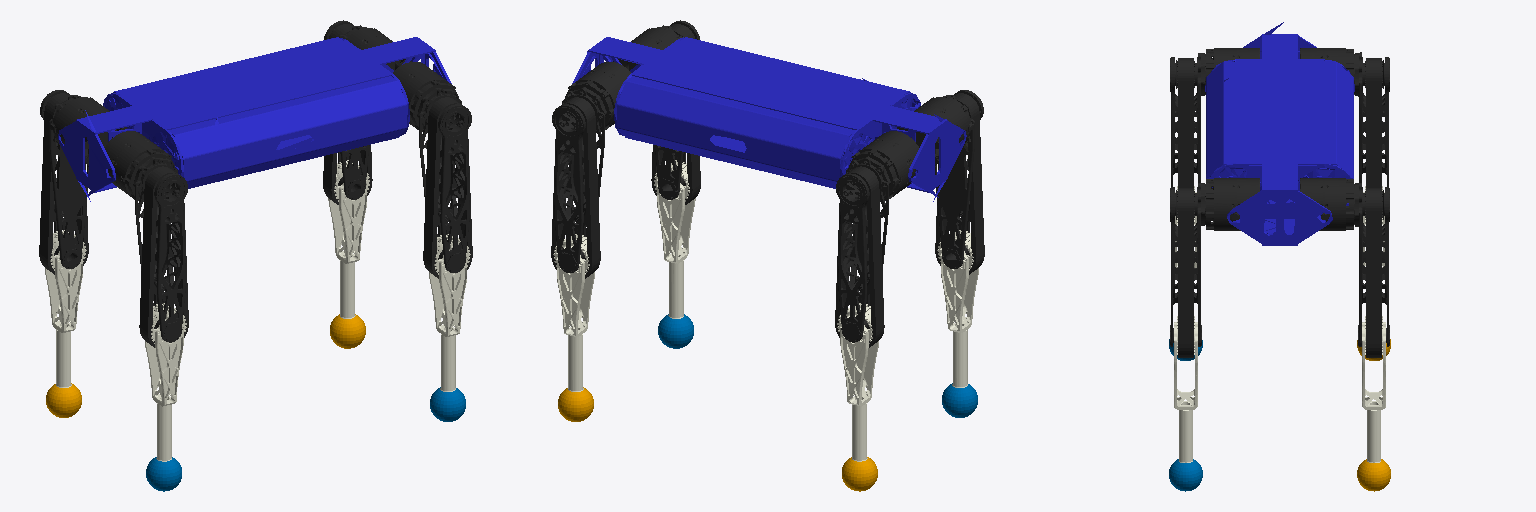
robot.urdf — Hound_description:
<?xml version="1.0" ?>
<!-- =================================================================================== -->
<!-- |    This document was autogenerated by xacro from robot.xacro                    | -->
<!-- |    EDITING THIS FILE BY HAND IS NOT RECOMMENDED                                 | -->
<!-- =================================================================================== -->
<robot name="Hound_description" xmlns:xacro="http://www.ros.org/wiki/xacro">
  <material name="black">
    <color rgba="0.0 0.0 0.0 1.0"/>
  </material>
  <material name="blue">
    <color rgba="0.2 0.2 0.8 1.0"/>
  </material>
  <material name="green">
    <color rgba="0.0 0.8 0.0 1.0"/>
  </material>
  <material name="grey">
    <color rgba="0.2 0.2 0.2 1.0"/>
  </material>
  <material name="silver">
    <color rgba="0.913725490196 0.913725490196 0.847058823529 1.0"/>
  </material>
  <material name="orange">
    <color rgba="1.0 0.423529411765 0.0392156862745 1.0"/>
  </material>
  <material name="brown">
    <color rgba="0.870588235294 0.811764705882 0.764705882353 1.0"/>
  </material>
  <material name="red">
    <color rgba="0.8 0.0 0.0 1.0"/>
  </material>
  <material name="white">
    <color rgba="1.0 1.0 1.0 1.0"/>
  </material>

  <link name="trunk">
    <visual>
      <origin rpy="0 0 0" xyz="0 0 0"/>
      <geometry>
        <mesh filename="base__.dae" scale="1 1 1"/>
      </geometry>
      <material name="blue"/>
    </visual>
    <collision>
      <origin rpy="0 0 0" xyz="0 0 0"/>
      <geometry>
	<!--<box size="0.562 0.335 0.14"/>-->
        <box size="0.562 0.185 0.08"/>
      </geometry>
    </collision>
    <inertial>
      <origin rpy="0 0 0" xyz="-0.001319 -0.000239 -0.003879"/>
      <mass value="18.476235"/>
      <inertia ixx="0.217213" ixy="0.001430" ixz="0.002076" iyy="0.803514" iyz="0.000309" izz="0.958084"/>
    </inertial>
  </link>


  <joint name="RR_roll_joint" type="revolute">
    <origin rpy="0 0 0" xyz="-0.349 -0.100 0.000"/>
    <parent link="trunk"/>
    <child link="RR_shoulder"/>
    <axis xyz="1 0 0"/>
    <!--dynamics rotor_inertia="0.01432664" damping="0" friction="0"/-->
    <limit effort="200" lower="-1.48352986419518" upper="1.48352986419518" velocity="21.29"/>
  </joint>
  <link name="RR_shoulder">
    <visual>
      <origin rpy="0 0 0" xyz="0 0 0"/>
      <geometry>
        <mesh filename="shoulder_mirror__.dae" scale="1 1 1"/>
      </geometry>
      <material name="grey"/>
    </visual>
    <collision>
      <origin rpy="1.57079632679 0 0" xyz="0 -0.0125 0"/>
      <geometry>
        <cylinder length="0.133" radius="0.0605"/>
      </geometry>
    </collision>
    <inertial>
      <origin rpy="0 0 0" xyz="-0.00572291 -0.00984486 0.00000918"/>
      <mass value="4.1828477"/>
      <inertia ixx="0.01020686" ixy="-0.00005695" ixz="-0.00001248" iyy="0.00830726" iyz="-0.00009489" izz="0.01176863"/>
    </inertial>
  </link>
  <joint name="RR_hip_joint" type="revolute">
    <origin rpy="0 0 0" xyz="0 -0.1135 0"/>
    <parent link="RR_shoulder"/>
    <child link="RR_thigh"/>
    <axis xyz="0 1 0"/>
    <!--dynamics rotor_inertia="0.05581304" damping="0" friction="0"/-->
    <limit effort="200" lower="-6.28318530718" upper="6.28318530718" velocity="21.29"/>
  </joint>
  <link name="RR_thigh">
    <visual>
      <origin rpy="0 0 0" xyz="0 0 0"/>
      <geometry>
        <mesh filename="thigh_mirror__.dae" scale="1 1 1"/>
      </geometry>
      <material name="grey"/>
    </visual>
    <collision>
      <origin rpy="0 0 0" xyz="0 0 -0.16395"/>
      <geometry>
        <box size="0.078 0.069 0.35"/>
      </geometry>
    </collision>
    <inertial>
      <origin rpy="0 0 0" xyz="0.01353461 0.01879181 -0.09638993"/>
      <mass value="1.52408165"/>
      <inertia ixx="0.02365733" ixy="-0.00036775" ixz="-0.00293293" iyy="0.02323490" iyz="0.00261899" izz="0.00318143"/>
    </inertial>
  </link>
  <joint name="RR_knee_joint" type="revolute">
    <origin rpy="0 0 0" xyz="0 0 -0.3279"/>
    <parent link="RR_thigh"/>
    <child link="RR_calf"/>
    <axis xyz="0 1 0"/>
    <!--dynamics rotor_inertia="0.0561" damping="0" friction="0"/-->
    <limit effort="400" lower="-2.7925268" upper="2.7925268" velocity="10.0"/>
  </joint>
  <link name="RR_calf">
    <visual>
      <origin rpy="0 0 0" xyz="0 0 0"/>
      <geometry>
        <mesh filename="calf__.dae" scale="1 1 1"/>
      </geometry>
      <material name="silver"/>
    </visual>
    <collision>
      <origin rpy="0 0 0" xyz="0 0 -0.1735"/>
      <geometry>
        <box size="0.032 0.032 0.347"/>
      </geometry>
    </collision>
    <inertial>
      <origin rpy="0 0 0" xyz="0.00000000 -0.00007139 -0.1020159"/>
      <mass value="0.6070551"/>
      <inertia ixx="0.0103107" ixy="0.00000000" ixz="0.0001390" iyy="0.0103192" iyz="-0.0000046" izz="0.0004140"/>
    </inertial>
  </link>
  <joint name="RR_foot_fixed" type="fixed">
    <origin rpy="0 0 0" xyz="0 0 -0.347"/>
    <parent link="RR_calf"/>
    <child link="RR_foot"/>
  </joint>
  <link name="RR_foot">
    <visual>
      <origin rpy="0 0 0" xyz="0 0 0"/>
      <geometry>
        <sphere radius="0.039"/>
      </geometry>
    </visual>
    <collision>
      <origin rpy="0 0 0" xyz="0 0 0"/>
      <geometry>
        <sphere radius="0.039"/>
      </geometry>
    </collision>
    <inertial>
      <origin rpy="0 0 0" xyz="0.0 -0.0 -0.0"/>
      <mass value="0.01"/>
      <inertia ixx="0.0000001" ixy="0.0" ixz="-0.0" iyy="0.0000001" iyz="-0.0" izz="0.0.0000001"/>
    </inertial>
  </link>


  <joint name="RL_roll_joint" type="revolute">
    <origin rpy="0 0 0" xyz="-0.349 0.100 0.000"/>
    <parent link="trunk"/>
    <child link="RL_shoulder"/>
    <axis xyz="1 0 0"/>
    <!--dynamics rotor_inertia="0.01432664" damping="0" friction="0"/-->
    <limit effort="200" lower="-1.48352986419518" upper="1.48352986419518" velocity="21.29"/>
  </joint>
  <link name="RL_shoulder">
    <visual>
      <origin rpy="0 0 0" xyz="0 0 0"/>
      <geometry>
        <mesh filename="shoulder__.dae" scale="1 1 1"/>
      </geometry>
      <material name="grey"/>
    </visual>
    <collision>
      <origin rpy="1.57079632679 0 0" xyz="0 0.0125 0"/>
      <geometry>
        <cylinder length="0.133" radius="0.0605"/>
      </geometry>
    </collision>
    <inertial>
      <origin rpy="0 0 0" xyz="-0.00572291 0.00984486 0.00000918"/>
      <mass value="4.1828477"/>
      <inertia ixx="0.01020686" ixy="0.00005695" ixz="-0.00001248" iyy="0.00830726" iyz="0.00009489" izz="0.01176863"/>
    </inertial>
  </link>
  <joint name="RL_hip_joint" type="revolute">
    <origin rpy="0 0 0" xyz="0 0.1135 0"/>
    <parent link="RL_shoulder"/>
    <child link="RL_thigh"/>
    <axis xyz="0 1 0"/>
    <!--dynamics rotor_inertia="0.05581304" damping="0" friction="0"/-->
    <limit effort="200" lower="-6.28318530718" upper="6.28318530718" velocity="21.29"/>
  </joint>
  <link name="RL_thigh">
    <visual>
      <origin rpy="0 0 0" xyz="0 0 0"/>
      <geometry>
        <mesh filename="thigh__.dae" scale="1 1 1"/>
      </geometry>
      <material name="grey"/>
    </visual>
    <collision>
      <origin rpy="0 0 0" xyz="0 0 -0.16395"/>
      <geometry>
        <box size="0.078 0.069 0.35"/>
      </geometry>
    </collision>
    <inertial>
      <origin rpy="0 0 0" xyz="0.01353461 -0.01879181 -0.09638993"/>
      <mass value="1.52408165"/>
      <inertia ixx="0.02365733" ixy="0.00036775" ixz="-0.00293293" iyy="0.02323490" iyz="-0.00261899" izz="0.00318143"/>
    </inertial>
  </link>
  <joint name="RL_knee_joint" type="revolute">
    <origin rpy="0 0 0" xyz="0 0 -0.3279"/>
    <parent link="RL_thigh"/>
    <child link="RL_calf"/>
    <axis xyz="0 1 0"/>
    <!--dynamics rotor_inertia="0.0561" damping="0" friction="0"/-->
    <limit effort="400" lower="-2.7925268" upper="2.7925268" velocity="10.0"/>
  </joint>
  <link name="RL_calf">
    <visual>
      <origin rpy="0 0 0" xyz="0 0 0"/>
      <geometry>
        <mesh filename="calf__.dae" scale="1 1 1"/>
      </geometry>
      <material name="silver"/>
    </visual>
    <collision>
      <origin rpy="0 0 0" xyz="0 0 -0.1735"/>
      <geometry>
        <box size="0.032 0.032 0.347"/>
      </geometry>
    </collision>
    <inertial>
      <origin rpy="0 0 0" xyz="0.00000000 0.00007139 -0.1020159"/>
      <mass value="0.6070551"/>
      <inertia ixx="0.0103107" ixy="0.00000000" ixz="0.0001390" iyy="0.0103192" iyz="-0.0000046" izz="0.0004140"/>
    </inertial>
  </link>
  <joint name="RL_foot_fixed" type="fixed">
    <origin rpy="0 0 0" xyz="0 0 -0.347"/>
    <parent link="RL_calf"/>
    <child link="RL_foot"/>
  </joint>
  <link name="RL_foot">
    <visual>
      <origin rpy="0 0 0" xyz="0 0 0"/>
      <geometry>
        <sphere radius="0.039"/>
      </geometry>
    </visual>
    <collision>
      <origin rpy="0 0 0" xyz="0 0 0"/>
      <geometry>
        <sphere radius="0.039"/>
      </geometry>
    </collision>
    <inertial>
      <origin rpy="0 0 0" xyz="0.0 -0.0 -0.0"/>
      <mass value="0.01"/>
      <inertia ixx="0.0000001" ixy="0.0" ixz="-0.0" iyy="0.0000001" iyz="-0.0" izz="0.0.0000001"/>
    </inertial>
  </link>


  <joint name="FR_roll_joint" type="revolute">
    <origin rpy="0 0 0" xyz="0.349 -0.100 0.000"/>
    <parent link="trunk"/>
    <child link="FR_shoulder"/>
    <axis xyz="1 0 0"/>
    <!--dynamics rotor_inertia="0.01432664" damping="0" friction="0"/-->
    <limit effort="200" lower="-1.48352986419518" upper="1.48352986419518" velocity="21.29"/>
  </joint>
  <link name="FR_shoulder">
    <visual>
      <origin rpy="0 0 0" xyz="0 0 0"/>
      <geometry>
        <mesh filename="shoulder_mirror__.dae" scale="1 1 1"/>
      </geometry>
      <material name="grey"/>
    </visual>
    <collision>
      <origin rpy="1.57079632679 0 0" xyz="0 -0.0125 0"/>
      <geometry>
        <cylinder length="0.133" radius="0.0605"/>
      </geometry>
    </collision>
    <inertial>
      <origin rpy="0 0 0" xyz="-0.00572291 -0.00984486 0.00000918"/>
      <mass value="4.1828477"/>
      <inertia ixx="0.01020686" ixy="-0.00005695" ixz="-0.00001248" iyy="0.00830726" iyz="-0.00009489" izz="0.01176863"/>
    </inertial>
  </link>
  <joint name="FR_hip_joint" type="revolute">
    <origin rpy="0 0 0" xyz="0 -0.1135 0"/>
    <parent link="FR_shoulder"/>
    <child link="FR_thigh"/>
    <axis xyz="0 1 0"/>
    <!--dynamics rotor_inertia="0.05581304" damping="0" friction="0"/-->
    <limit effort="200" lower="-6.28318530718" upper="6.28318530718" velocity="21.29"/>
  </joint>
  <link name="FR_thigh">
    <visual>
      <origin rpy="0 0 0" xyz="0 0 0"/>
      <geometry>
        <mesh filename="thigh_mirror__.dae" scale="1 1 1"/>
      </geometry>
      <material name="grey"/>
    </visual>
    <collision>
      <origin rpy="0 0 0" xyz="0 0 -0.16395"/>
      <geometry>
        <box size="0.078 0.069 0.35"/>
      </geometry>
    </collision>
    <inertial>
      <origin rpy="0 0 0" xyz="0.01353461 0.01879181 -0.09638993"/>
      <mass value="1.52408165"/>
      <inertia ixx="0.02365733" ixy="-0.00036775" ixz="-0.00293293" iyy="0.02323490" iyz="0.00261899" izz="0.00318143"/>
    </inertial>
  </link>
  <joint name="FR_knee_joint" type="revolute">
    <origin rpy="0 0 0" xyz="0 0 -0.3279"/>
    <parent link="FR_thigh"/>
    <child link="FR_calf"/>
    <axis xyz="0 1 0"/>
    <!--dynamics rotor_inertia="0.0561" damping="0" friction="0"/-->
    <limit effort="400" lower="-2.7925268" upper="2.7925268" velocity="10.0"/>
  </joint>
  <link name="FR_calf">
    <visual>
      <origin rpy="0 0 0" xyz="0 0 0"/>
      <geometry>
        <mesh filename="calf__.dae" scale="1 1 1"/>
      </geometry>
      <material name="silver"/>
    </visual>
    <collision>
      <origin rpy="0 0 0" xyz="0 0 -0.1735"/>
      <geometry>
        <box size="0.032 0.032 0.347"/>
      </geometry>
    </collision>
    <inertial>
      <origin rpy="0 0 0" xyz="0.00000000 -0.00007139 -0.1020159"/>
      <mass value="0.6070551"/>
      <inertia ixx="0.0103107" ixy="0.00000000" ixz="0.0001390" iyy="0.0103192" iyz="-0.0000046" izz="0.0004140"/>
    </inertial>
  </link>
  <joint name="FR_foot_fixed" type="fixed">
    <origin rpy="0 0 0" xyz="0 0 -0.347"/>
    <parent link="FR_calf"/>
    <child link="FR_foot"/>
  </joint>
  <link name="FR_foot">
    <visual>
      <origin rpy="0 0 0" xyz="0 0 0"/>
      <geometry>
        <sphere radius="0.039"/>
      </geometry>
    </visual>
    <collision>
      <origin rpy="0 0 0" xyz="0 0 0"/>
      <geometry>
        <sphere radius="0.039"/>
      </geometry>
    </collision>
    <inertial>
      <origin rpy="0 0 0" xyz="0.0 -0.0 -0.0"/>
      <mass value="0.01"/>
      <inertia ixx="0.0000001" ixy="0.0" ixz="-0.0" iyy="0.0000001" iyz="-0.0" izz="0.0.0000001"/>
    </inertial>
  </link>


  <joint name="FL_roll_joint" type="revolute">
    <origin rpy="0 0 0" xyz="0.349 0.100 0.000"/>
    <parent link="trunk"/>
    <child link="FL_shoulder"/>
    <axis xyz="1 0 0"/>
    <!--dynamics rotor_inertia="0.01432664" damping="0" friction="0"/-->
    <limit effort="200" lower="-1.48352986419518" upper="1.48352986419518" velocity="21.29"/>
  </joint>
  <link name="FL_shoulder">
    <visual>
      <origin rpy="0 0 0" xyz="0 0 0"/>
      <geometry>
        <mesh filename="shoulder__.dae" scale="1 1 1"/>
      </geometry>
      <material name="grey"/>
    </visual>
    <collision>
      <origin rpy="1.57079632679 0 0" xyz="0 0.0125 0"/>
      <geometry>
        <cylinder length="0.133" radius="0.0605"/>
      </geometry>
    </collision>
    <inertial>
      <origin rpy="0 0 0" xyz="-0.00572291 0.00984486 0.00000918"/>
      <mass value="4.1828477"/>
      <inertia ixx="0.01020686" ixy="0.00005695" ixz="-0.00001248" iyy="0.00830726" iyz="0.00009489" izz="0.01176863"/>
    </inertial>
  </link>
  <joint name="FL_hip_joint" type="revolute">
    <origin rpy="0 0 0" xyz="0 0.1135 0"/>
    <parent link="FL_shoulder"/>
    <child link="FL_thigh"/>
    <axis xyz="0 1 0"/>
    <!--dynamics rotor_inertia="0.05581304" damping="0" friction="0"/-->
    <limit effort="200" lower="-6.28318530718" upper="6.28318530718" velocity="21.29"/>
  </joint>
  <link name="FL_thigh">
    <visual>
      <origin rpy="0 0 0" xyz="0 0 0"/>
      <geometry>
        <mesh filename="thigh__.dae" scale="1 1 1"/>
      </geometry>
      <material name="grey"/>
    </visual>
    <collision>
      <origin rpy="0 0 0" xyz="0 0 -0.16395"/>
      <geometry>
        <box size="0.078 0.069 0.35"/>
      </geometry>
    </collision>
    <inertial>
      <origin rpy="0 0 0" xyz="0.01353461 -0.01879181 -0.09638993"/>
      <mass value="1.52408165"/>
      <inertia ixx="0.02365733" ixy="0.00036775" ixz="-0.00293293" iyy="0.02323490" iyz="-0.00261899" izz="0.00318143"/>
    </inertial>
  </link>
  <joint name="FL_knee_joint" type="revolute">
    <origin rpy="0 0 0" xyz="0 0 -0.3279"/>
    <parent link="FL_thigh"/>
    <child link="FL_calf"/>
    <axis xyz="0 1 0"/>
    <!--dynamics rotor_inertia="0.0561" damping="0" friction="0"/-->
    <limit effort="400" lower="-2.7925268" upper="2.7925268" velocity="10.0"/>
  </joint>
  <link name="FL_calf">
    <visual>
      <origin rpy="0 0 0" xyz="0 0 0"/>
      <geometry>
        <mesh filename="calf__.dae" scale="1 1 1"/>
      </geometry>
      <material name="silver"/>
    </visual>
    <collision>
      <origin rpy="0 0 0" xyz="0 0 -0.1735"/>
      <geometry>
        <box size="0.032 0.032 0.347"/>
      </geometry>
    </collision>
    <inertial>
      <origin rpy="0 0 0" xyz="0.00000000 0.00007139 -0.1020159"/>
      <mass value="0.6070551"/>
      <inertia ixx="0.0103107" ixy="0.00000000" ixz="0.0001390" iyy="0.0103192" iyz="-0.0000046" izz="0.0004140"/>
    </inertial>
  </link>
  <joint name="FL_foot_fixed" type="fixed">
    <origin rpy="0 0 0" xyz="0 0 -0.347"/>
    <parent link="FL_calf"/>
    <child link="FL_foot"/>
  </joint>
  <link name="FL_foot">
    <visual>
      <origin rpy="0 0 0" xyz="0 0 0"/>
      <geometry>
        <sphere radius="0.039"/>
      </geometry>
    </visual>
    <collision>
      <origin rpy="0 0 0" xyz="0 0 0"/>
      <geometry>
        <sphere radius="0.039"/>
      </geometry>
    </collision>
    <inertial>
      <origin rpy="0 0 0" xyz="0.0 -0.0 -0.0"/>
      <mass value="0.01"/>
      <inertia ixx="0.0000001" ixy="0.0" ixz="-0.0" iyy="0.0000001" iyz="-0.0" izz="0.0.0000001"/>
    </inertial>
  </link>


</robot>

--- What the picture shows (computed from the rendered views, not written in the file) ---
Views: 3 orthographic renders of the robot side by side, from view 1: azimuth 30°, elevation 25°; view 2: azimuth 150°, elevation 25°; view 3: azimuth 270°, elevation 25°.
Robot: Hound_description — 17 links, 16 joints (12 revolute, 4 fixed); root link trunk; default pose: every joint at zero.
Visible links, largest first — view 1: trunk, FR_thigh, RR_thigh, RL_thigh, RR_calf, FR_calf, FL_calf, RL_calf, FL_thigh, RR_shoulder, FR_shoulder, RL_shoulder (+5 smaller); view 2: trunk, RL_thigh, FL_thigh, RR_thigh, RL_calf, FL_calf, FR_calf, RR_calf, FR_thigh, RL_shoulder, FL_shoulder, RR_shoulder (+5 smaller); view 3: trunk, FL_thigh, FR_thigh, RL_thigh, RR_thigh, FR_shoulder, FL_shoulder, FR_calf, FL_calf, RR_shoulder, RL_shoulder, FR_foot (+1 smaller).
Boxes of the visible links, x1,y1,x2,y2 form: trunk: [58, 37, 451, 201]; FR_thigh: [419, 88, 472, 278]; RR_thigh: [135, 158, 188, 347]; RL_thigh: [39, 90, 88, 274]; RR_calf: [145, 303, 186, 461]; FR_calf: [429, 234, 470, 391]; FL_calf: [328, 160, 369, 318]; RL_calf: [45, 230, 86, 387]; FL_thigh: [323, 20, 372, 204]; RR_shoulder: [105, 131, 177, 201]; FR_shoulder: [393, 62, 461, 132]; RL_shoulder: [50, 95, 126, 165]; trunk: [572, 37, 966, 201]; RL_thigh: [835, 158, 888, 347]; FL_thigh: [551, 88, 604, 278]; RR_thigh: [935, 90, 984, 274]; RL_calf: [837, 303, 878, 461]; FL_calf: [553, 234, 594, 391]; FR_calf: [654, 160, 695, 318]; RR_calf: [937, 230, 978, 387]; FR_thigh: [651, 20, 700, 204]; RL_shoulder: [846, 131, 918, 201]; FL_shoulder: [562, 62, 630, 132]; RR_shoulder: [897, 95, 973, 165]; trunk: [1205, 22, 1354, 245]; FL_thigh: [1358, 183, 1389, 357]; FR_thigh: [1170, 183, 1201, 357]; RL_thigh: [1359, 52, 1389, 187]; RR_thigh: [1170, 53, 1200, 187]; FR_shoulder: [1201, 178, 1259, 230]; FL_shoulder: [1300, 178, 1358, 230]; FR_calf: [1174, 316, 1197, 462]; FL_calf: [1362, 316, 1385, 462]; RR_shoulder: [1201, 48, 1259, 95]; RL_shoulder: [1300, 48, 1358, 96]; FR_foot: [1169, 459, 1202, 491].
Bounding box of the posed robot: 0.838 × 0.505 × 0.8196 m (x, y, z).
13 mesh visuals loaded from 6 distinct referenced files (6 Collada DAE).